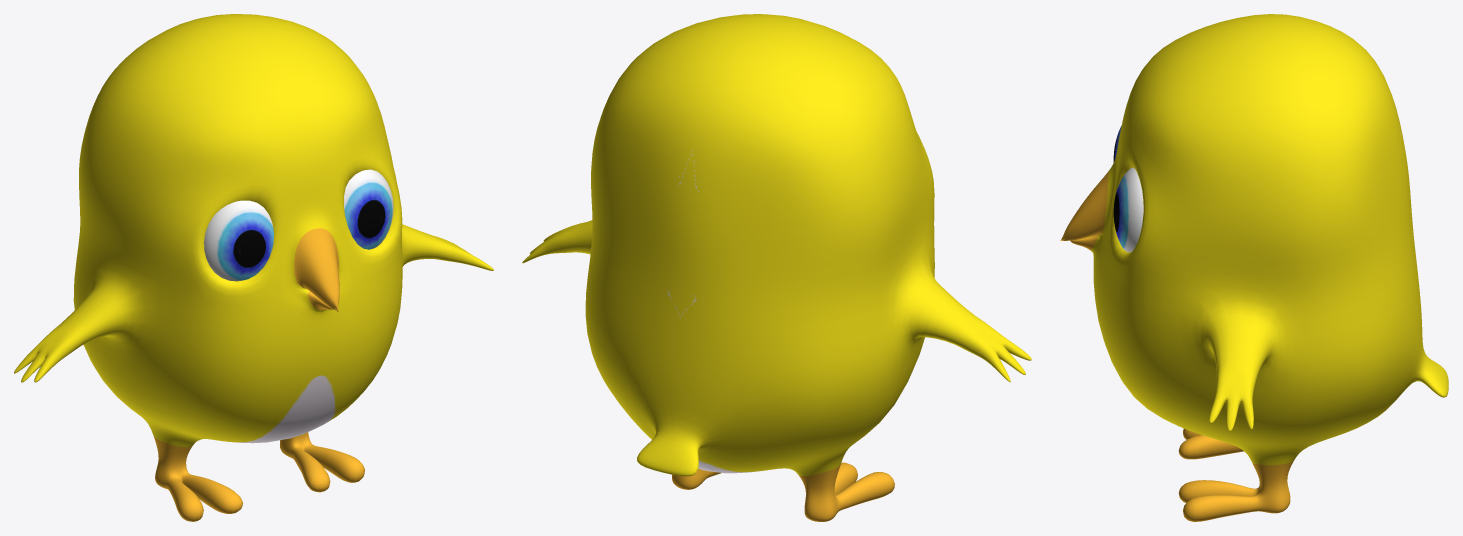
File: Chick.fbx
The picture shows the model from 3 angles, left to right: view 1: azimuth 30°, elevation 25°; view 2: azimuth 150°, elevation 25°; view 3: azimuth 270°, elevation 25°; orthographic projection. The views are drawn at different scales.
Visible parts, largest first — view 1: Chick001, Chick002; view 2: Chick001; view 3: Chick001, Chick002.
Part boxes in pixels (x1,y1,x2,y2): Chick001: (14,14,493,521); Chick002: (204,169,393,281); Chick001: (522,14,1031,521); Chick001: (1060,14,1448,521); Chick002: (1113,126,1143,252).
Size of the model in its own units: 11.01 by 10.01 by 7.84.
Materials: 2 (2 with a texture image).
